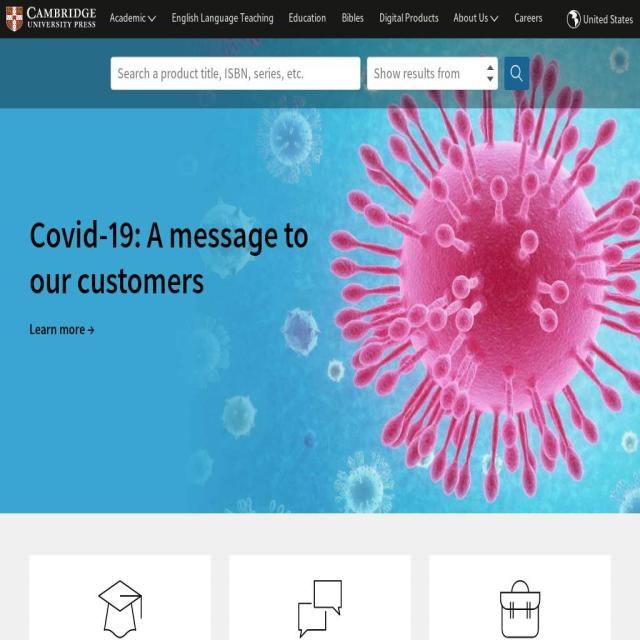button: (228, 555, 410, 640), (428, 555, 610, 640), (29, 555, 210, 640), (171, 0, 274, 37), (6, 6, 96, 31), (379, 0, 439, 37), (582, 0, 633, 41), (110, 0, 157, 37), (454, 0, 499, 37), (30, 319, 94, 341), (289, 0, 327, 37), (514, 0, 542, 37), (341, 0, 364, 37)
field: (110, 57, 360, 90), (367, 57, 498, 90), (504, 57, 530, 90)
heading: (29, 211, 310, 303)
image: (247, 580, 392, 638), (447, 580, 592, 638), (48, 580, 192, 638)
